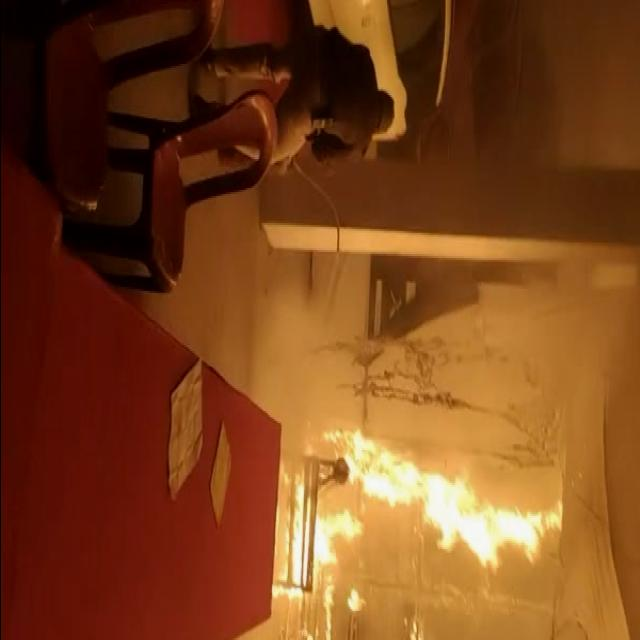firerotation: (271, 423, 565, 615)
